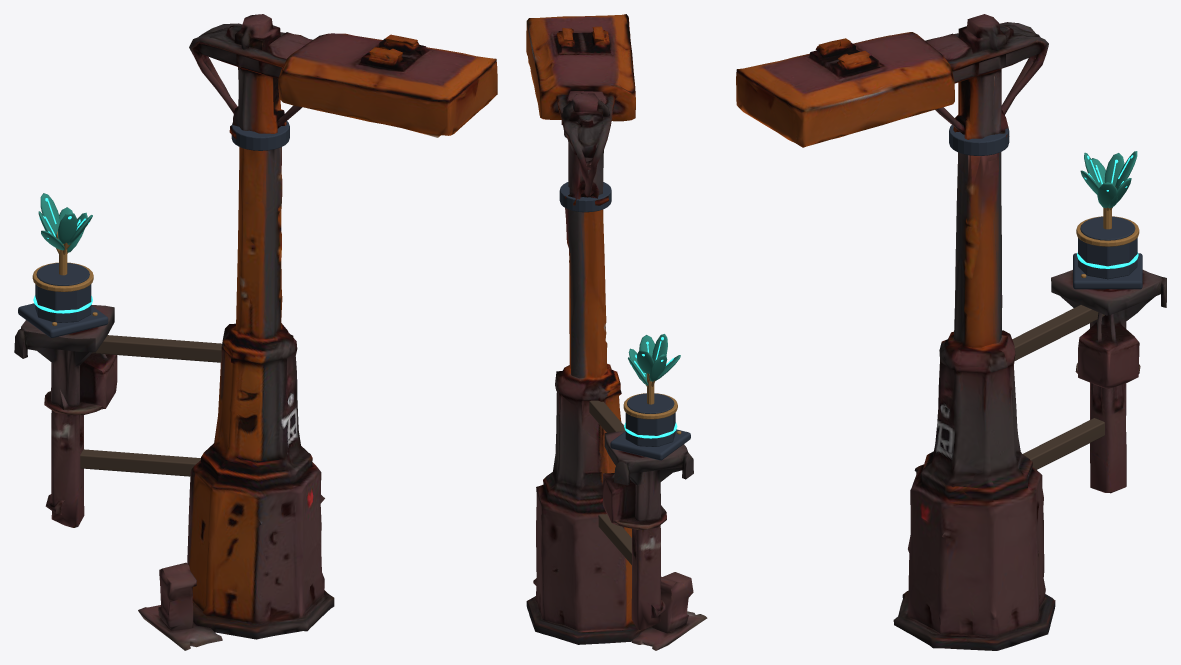
Rendered from 08_street_lamp.glb.
The picture shows the model from 3 angles, left to right: view 1: azimuth 30°, elevation 25°; view 2: azimuth 150°, elevation 25°; view 3: azimuth 270°, elevation 25°; orthographic projection. The views are drawn at different scales.
Parts seen in each view (by area): view 1: tripo_node_b369cdad-33bf-4cea-916a-42822d021d60, LOCAL_lamp_control_box_bracket.001, LOCAL_lamp_control_box_bracket, LOCAL_electronic_planter, LOCAL_planter_mount_plate, LOCAL_lamp_swivel_collar, LOCAL_planter_substrate; view 2: tripo_node_b369cdad-33bf-4cea-916a-42822d021d60, LOCAL_electronic_planter, LOCAL_planter_mount_plate, LOCAL_lamp_swivel_collar, LOCAL_lamp_control_box_bracket, LOCAL_planter_substrate, LOCAL_lamp_control_box_bracket.001, LOCAL_planter_upper_rim, LOCAL_circuit_leaf.005, LOCAL_circuit_leaf.004; view 3: tripo_node_b369cdad-33bf-4cea-916a-42822d021d60, LOCAL_lamp_control_box_bracket.001, LOCAL_electronic_planter, LOCAL_lamp_control_box_bracket, LOCAL_planter_mount_plate, LOCAL_lamp_swivel_collar, LOCAL_planter_substrate.
Boxes of the visible parts, x1,y1,x2,y2 form: tripo_node_b369cdad-33bf-4cea-916a-42822d021d60: [14, 14, 497, 650]; LOCAL_lamp_control_box_bracket.001: [92, 335, 221, 362]; LOCAL_lamp_control_box_bracket: [80, 449, 200, 476]; LOCAL_electronic_planter: [35, 284, 91, 322]; LOCAL_planter_mount_plate: [18, 303, 108, 337]; LOCAL_lamp_swivel_collar: [231, 121, 289, 150]; LOCAL_planter_substrate: [36, 263, 89, 285]; tripo_node_b369cdad-33bf-4cea-916a-42822d021d60: [526, 14, 707, 650]; LOCAL_electronic_planter: [625, 412, 675, 446]; LOCAL_planter_mount_plate: [610, 429, 690, 460]; LOCAL_lamp_swivel_collar: [559, 182, 611, 212]; LOCAL_lamp_control_box_bracket: [598, 514, 631, 564]; LOCAL_planter_substrate: [627, 393, 674, 413]; LOCAL_lamp_control_box_bracket.001: [589, 400, 625, 432]; LOCAL_planter_upper_rim: [623, 393, 677, 419]; LOCAL_circuit_leaf.005: [637, 350, 654, 374]; LOCAL_circuit_leaf.004: [649, 354, 667, 381]; tripo_node_b369cdad-33bf-4cea-916a-42822d021d60: [736, 14, 1166, 650]; LOCAL_lamp_control_box_bracket.001: [1012, 305, 1104, 361]; LOCAL_electronic_planter: [1078, 238, 1137, 279]; LOCAL_lamp_control_box_bracket: [1022, 418, 1104, 469]; LOCAL_planter_mount_plate: [1073, 253, 1142, 289]; LOCAL_lamp_swivel_collar: [949, 125, 1009, 155]; LOCAL_planter_substrate: [1080, 216, 1135, 240].
Bounding box in the file's own units: 1.64 × 2.8 × 1.79.
Materials: 6 (1 with a texture image).
